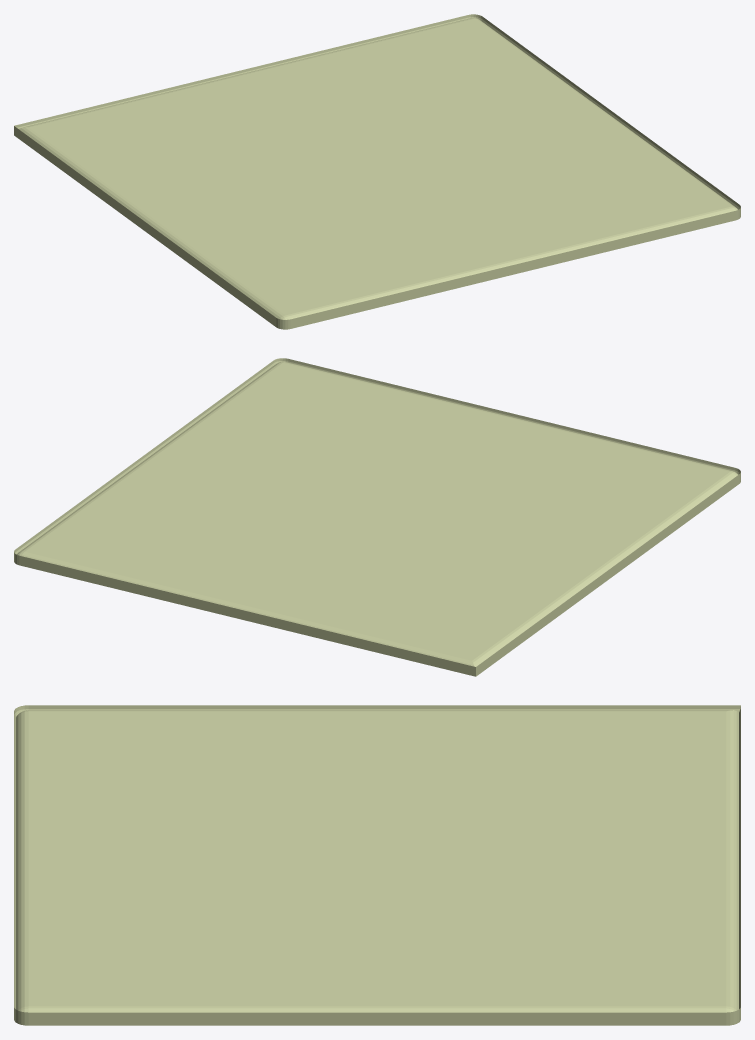
File: earth.fbx
3 renders of one model, top to bottom at view 1: azimuth 30°, elevation 25°; view 2: azimuth 150°, elevation 25°; view 3: azimuth 270°, elevation 25°, orthographic. The views are drawn at different scales.
Parts seen in each view (by area): view 1: Cube; view 2: Cube; view 3: Cube.
Part boxes in pixels (bbox=[...]): Cube: bbox=[14, 14, 740, 329]; Cube: bbox=[14, 358, 740, 676]; Cube: bbox=[14, 705, 740, 1025].
Bounding box in the file's own units: 1000 × 20 × 1000.
